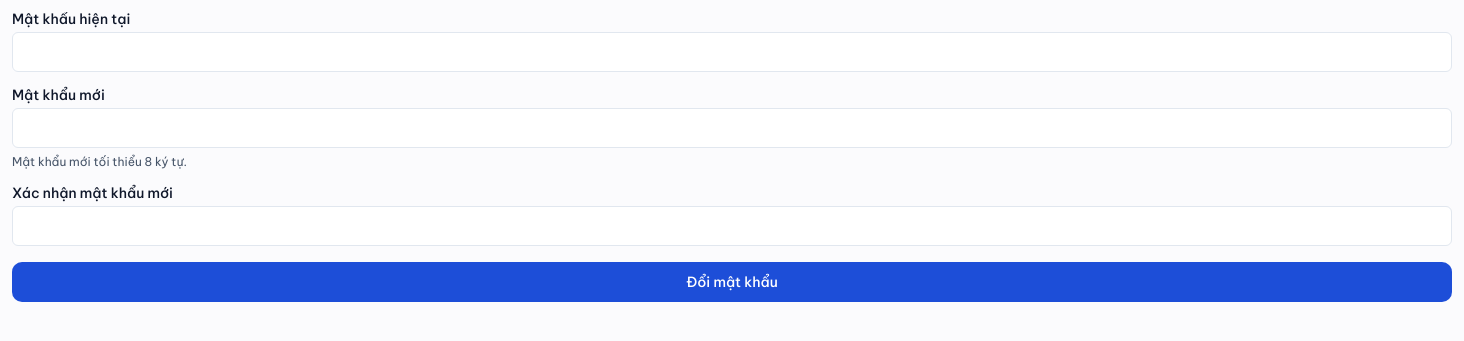
Test: ChangePasswordForm › blocks submit and shows a mismatch error when confirmation differs
This screenshot has width=1464, height=341.
In the password field labelled "Mật khẩu hiện tại": (732, 52) [12,32,1452,72], type "OldPass2024"
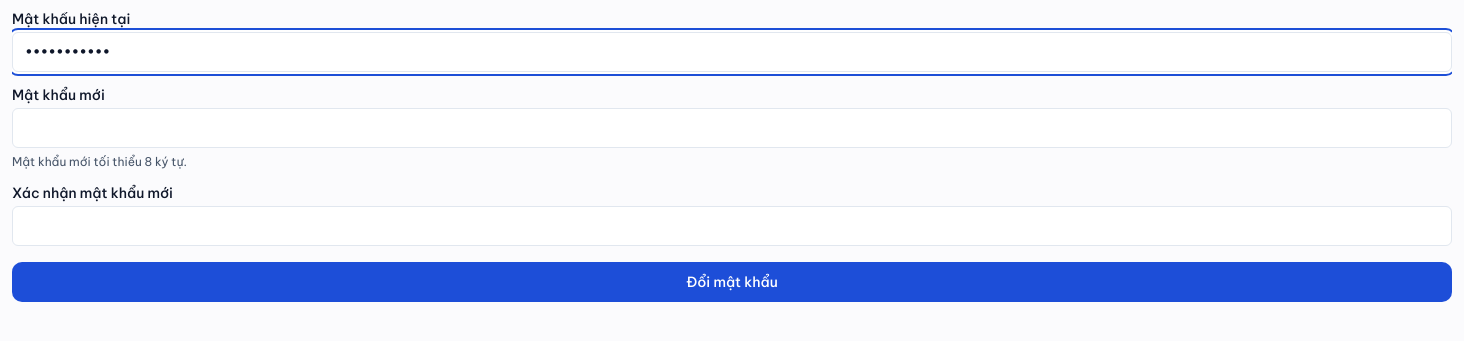
In the password field labelled "Mật khẩu mới": (732, 128) [12,108,1452,148], type "NewPass2024"
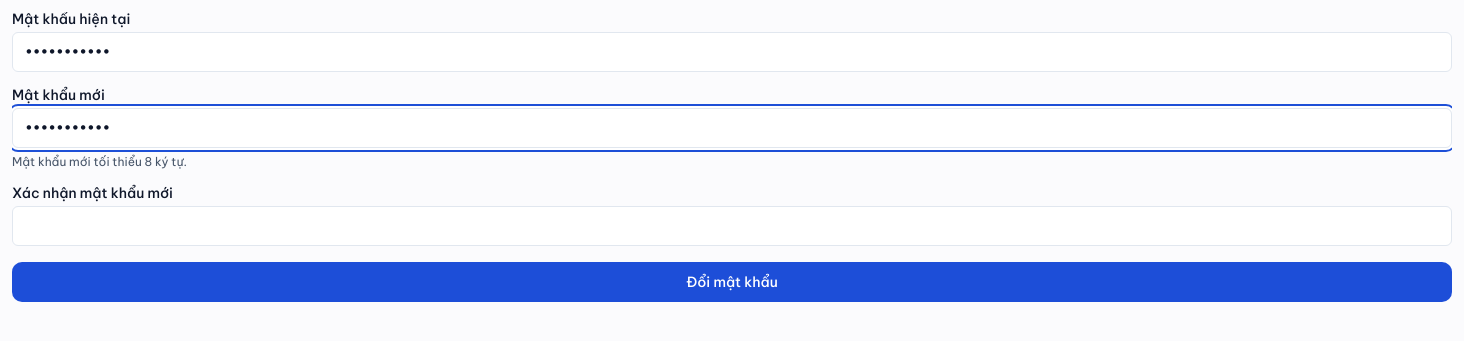
In the password field labelled "Xác nhận mật khẩu mới": (732, 226) [12,206,1452,246], type "different1"
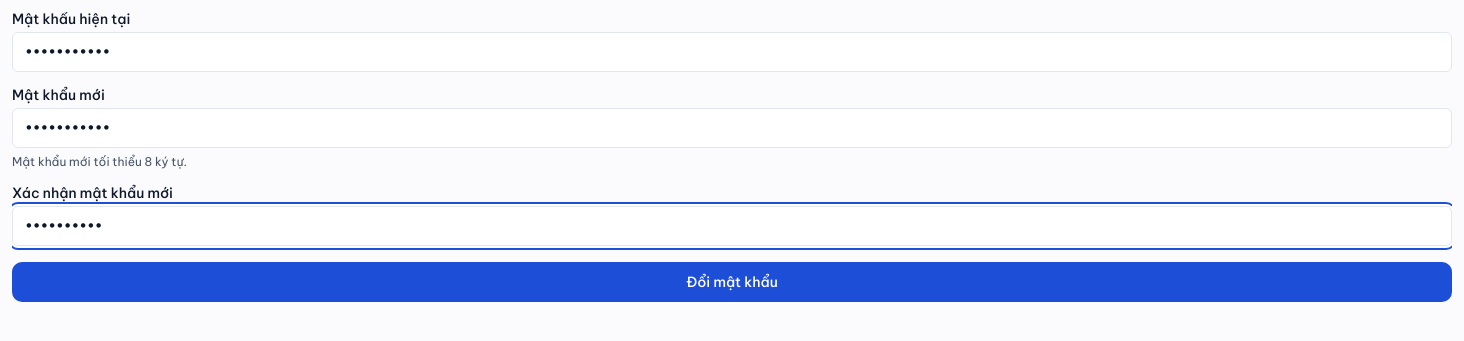
Click the button "Đổi mật khẩu": click(732, 282) [12,262,1452,302]
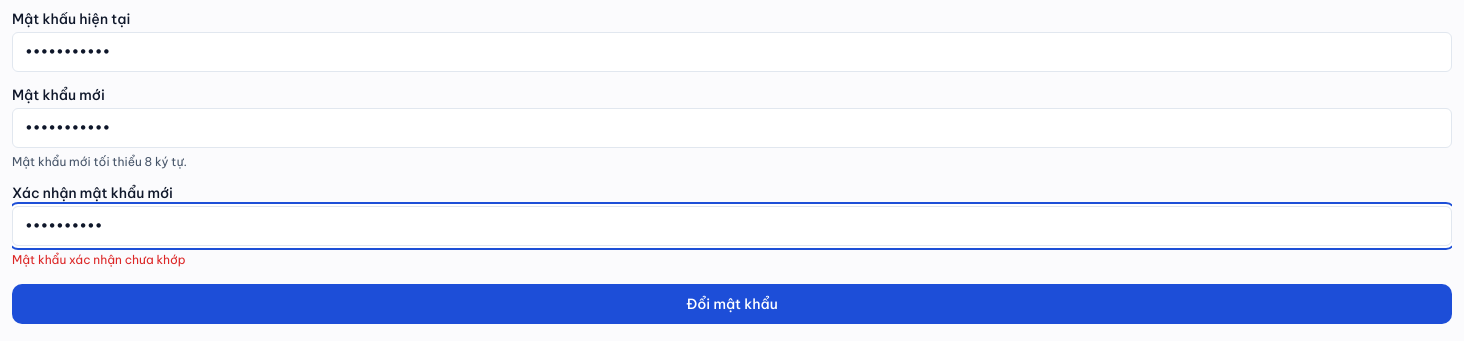
expect the text "Mật khẩu xác nhận chưa khớp" is shown: met, box [12,252,186,267]
